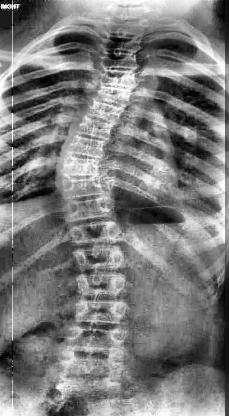Vertebrae: (60, 346, 128, 378), (72, 243, 126, 275), (74, 268, 130, 298), (73, 298, 131, 326), (67, 324, 129, 350), (61, 195, 117, 223), (56, 172, 106, 200), (70, 114, 116, 144), (56, 154, 108, 180), (66, 222, 122, 246), (61, 134, 107, 160), (82, 96, 124, 122), (98, 32, 142, 56), (92, 81, 132, 107), (94, 66, 138, 88), (96, 52, 144, 72)
